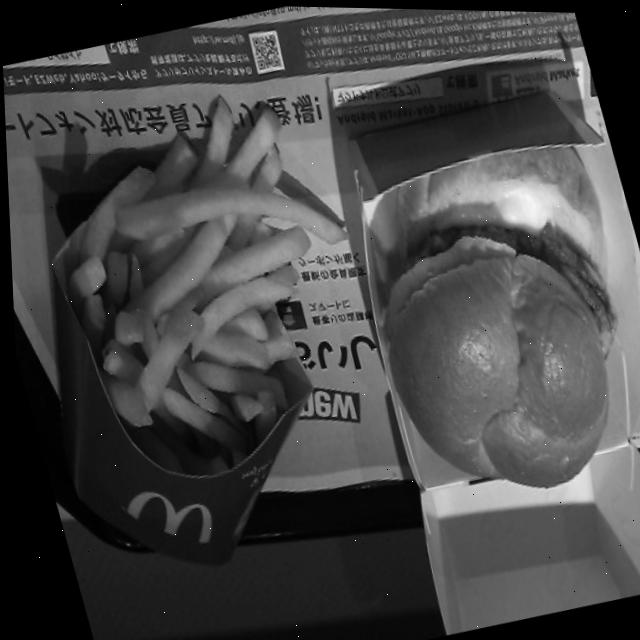汉堡快餐: (301, 65, 640, 535)
炸货点心: (2, 70, 413, 570)
